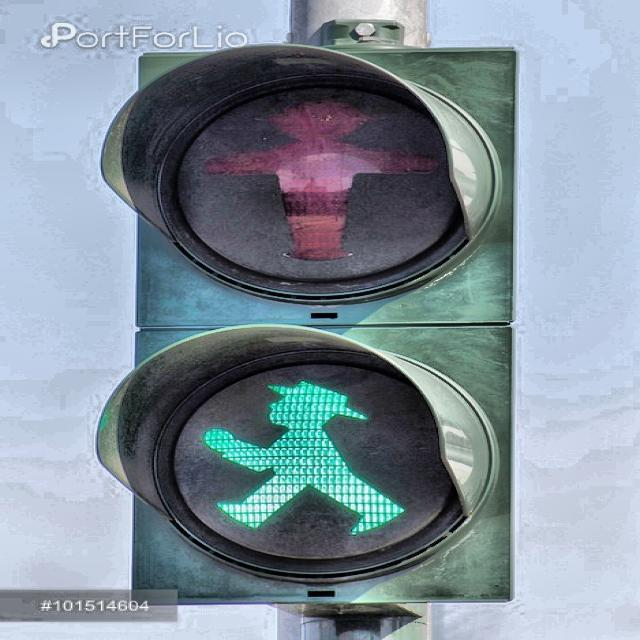green_light: (197, 372, 413, 542)
